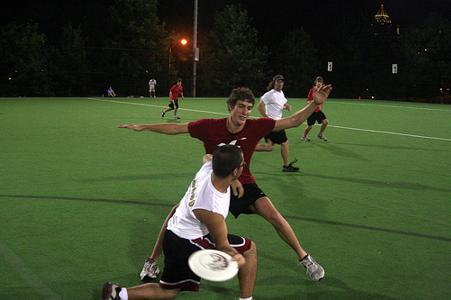person: (103, 143, 259, 299)
